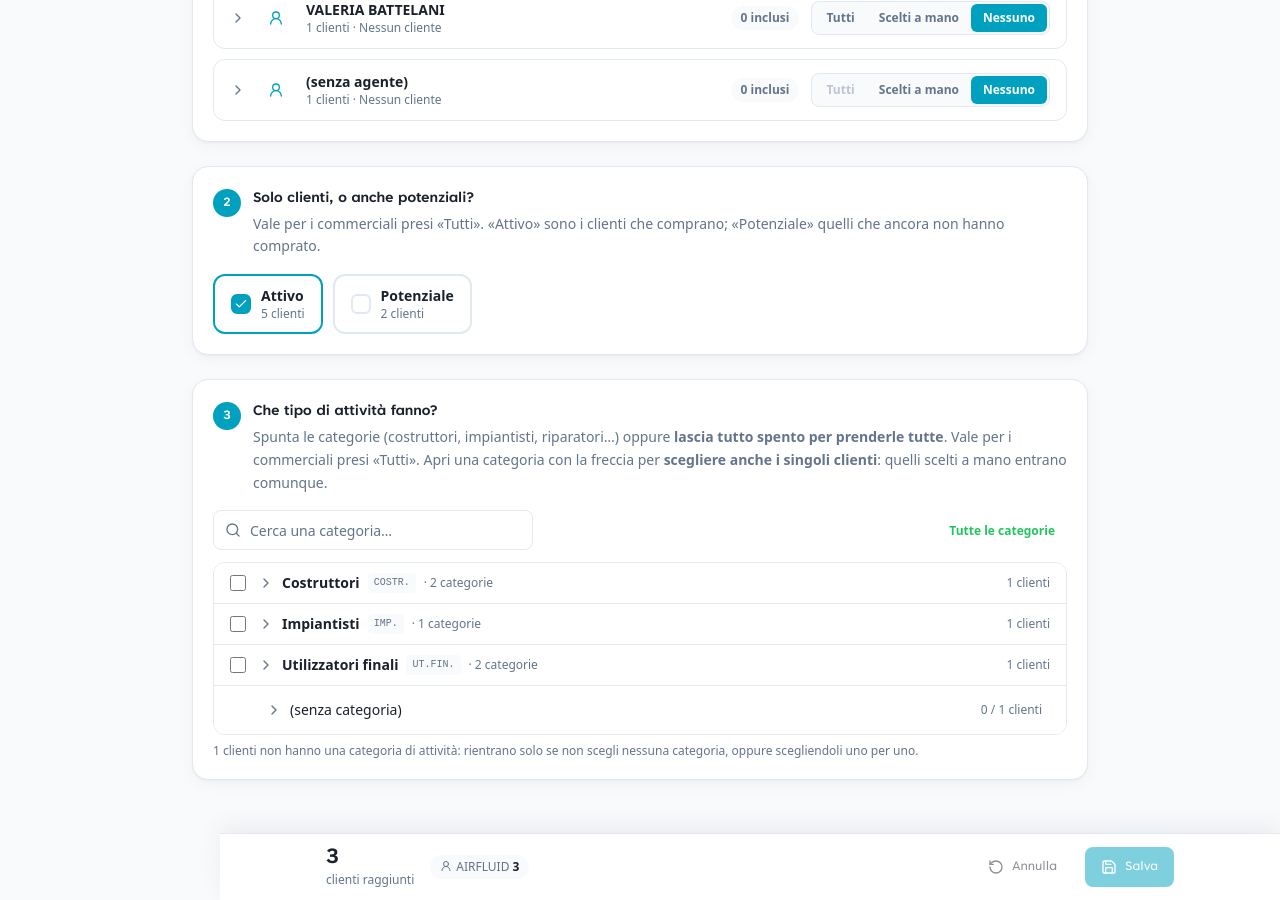
Scenario: pubblico standard: categorie › una famiglia (Costruttori) restringe ai suoi clienti; senza scelte vale «tutte le categorie»
This screenshot has width=1280, height=900.
(page scrolled)
Expected: the text "Tutte le categorie" is shown, left=949, top=522, right=1055, bottom=539
Click the checkbox named "Seleziona tutte le categorie Costruttori": x=238, y=583 left=230, top=575, right=246, bottom=591
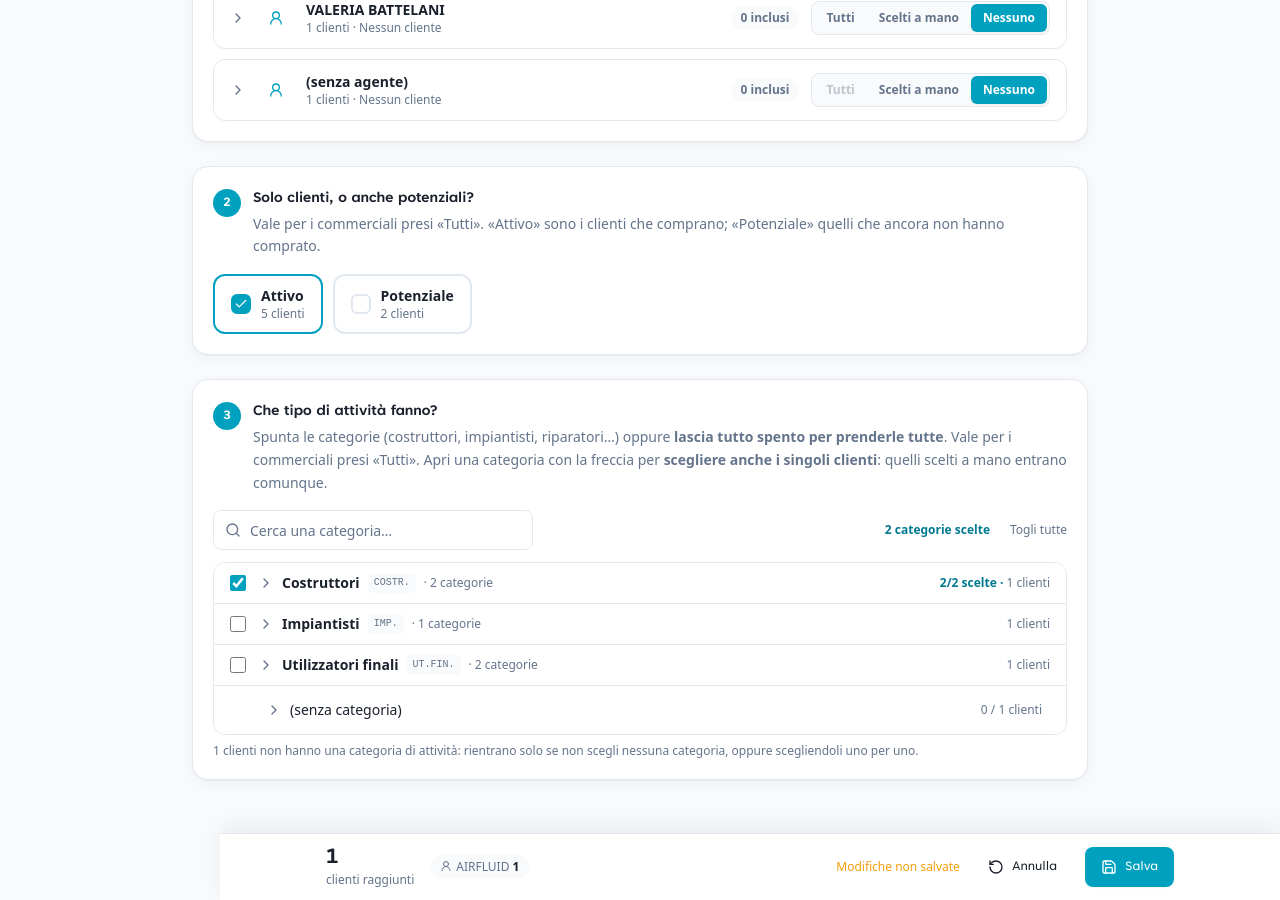
Expected: the 1st text "1" is shown, left=326, top=847, right=339, bottom=869
Expected: the text "2 categorie scelte" is shown, left=885, top=521, right=990, bottom=538
Click the button "Togli tutte": x=1038, y=530 left=1010, top=522, right=1067, bottom=538
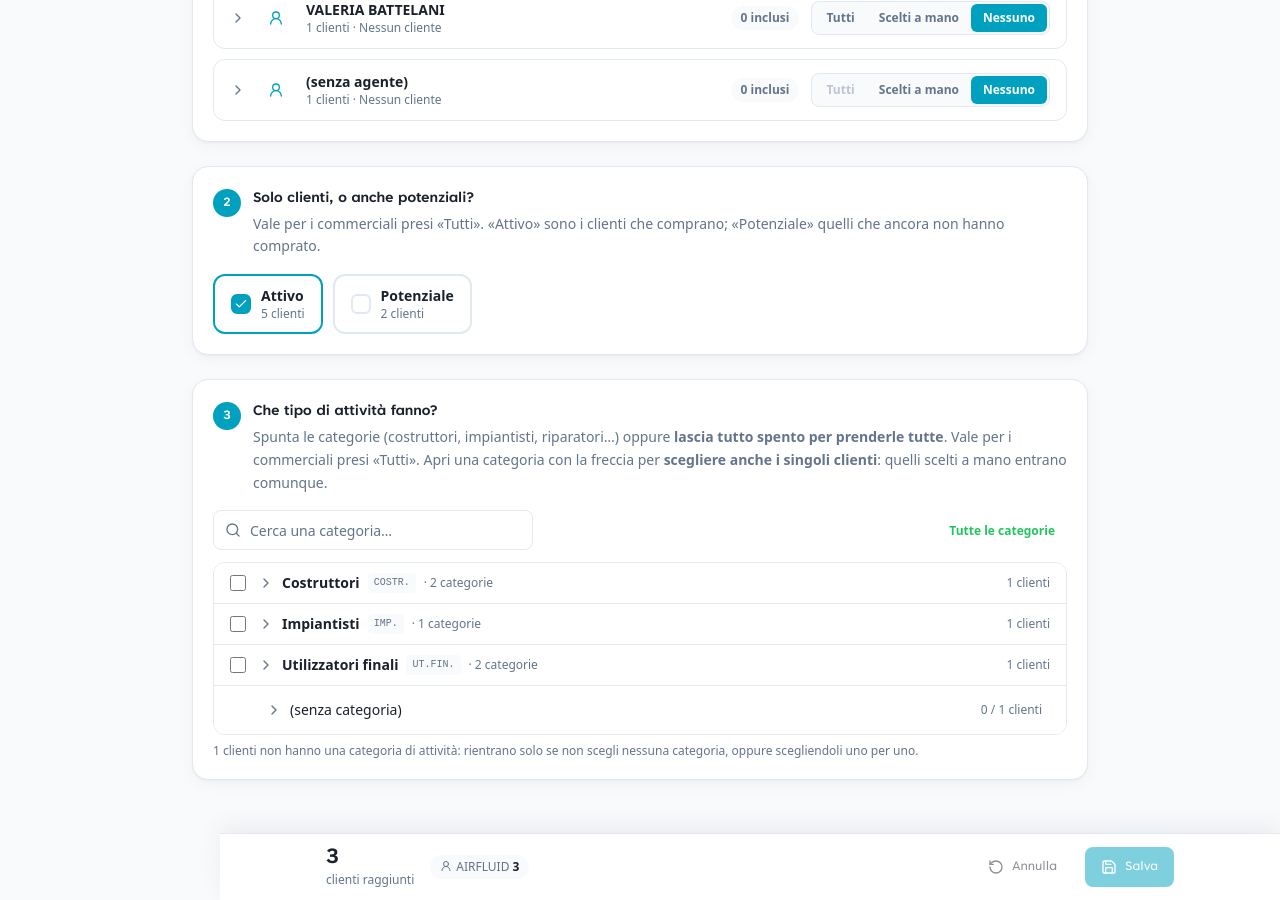
Expected: the 2nd text "3" is shown, left=326, top=847, right=339, bottom=869
